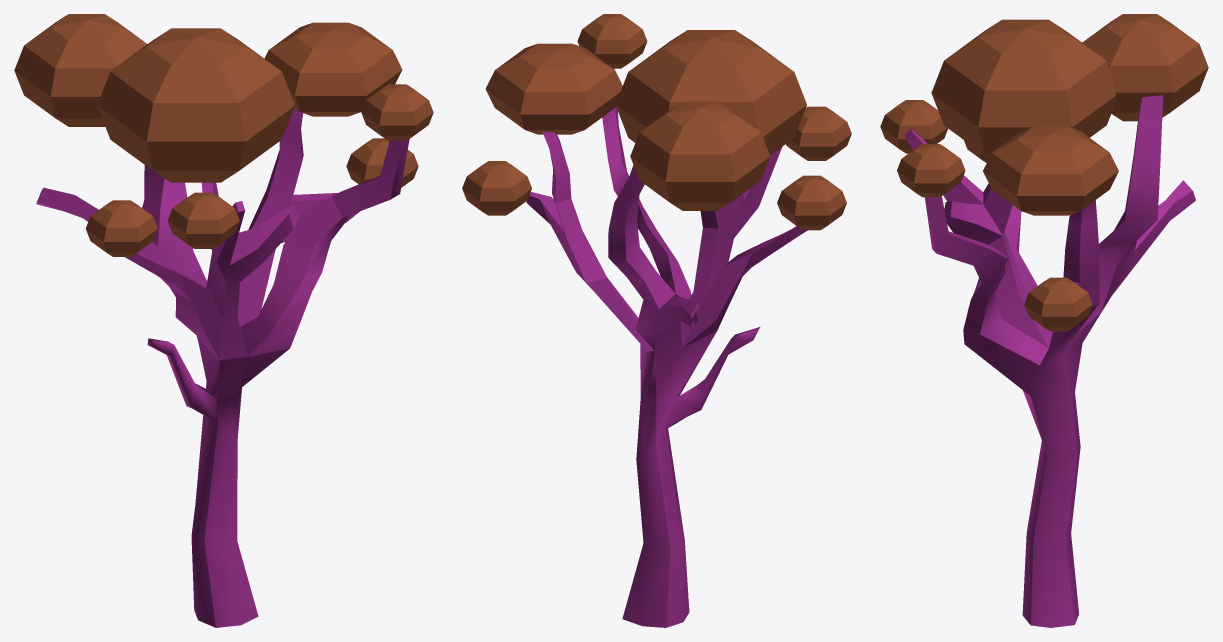
The model's file is arbolTarde3.fbx.
The picture shows the model from 3 angles, left to right: view 1: azimuth 30°, elevation 25°; view 2: azimuth 150°, elevation 25°; view 3: azimuth 270°, elevation 25°; orthographic projection. The views are drawn at different scales.
Visible parts, largest first — view 1: pCube1, Sphere.002, Sphere.007, Sphere.001, Sphere.005, Sphere.006, Sphere.008, Sphere.009; view 2: pCube1, Sphere.002, Sphere.007, Sphere.001, Sphere.005, Sphere.009, Sphere.008, Sphere.006; view 3: pCube1, Sphere.002, Sphere.001, Sphere.007, Sphere.009, Sphere.008, Sphere.006.
Part boxes in pixels (x1,y1,x2,y2): pCube1: (36,108,409,627); Sphere.002: (97,28,294,182); Sphere.007: (14,14,147,126); Sphere.001: (264,22,402,116); Sphere.005: (85,200,157,256); Sphere.006: (167,192,239,248); Sphere.008: (361,84,433,140); Sphere.009: (346,138,418,187); pCube1: (526,68,807,627); Sphere.002: (615,30,806,155); Sphere.007: (630,101,770,210); Sphere.001: (485,43,622,134); Sphere.005: (777,175,846,230); Sphere.009: (462,161,531,215); Sphere.008: (577,14,647,68); Sphere.006: (786,106,851,160); pCube1: (904,95,1195,627); Sphere.002: (931,19,1116,157); Sphere.001: (983,126,1118,215); Sphere.007: (1082,14,1208,121); Sphere.009: (1024,277,1092,331); Sphere.008: (897,144,965,197); Sphere.006: (880,100,947,153).
Bounding box in the file's own units: 142 × 234 × 123.
